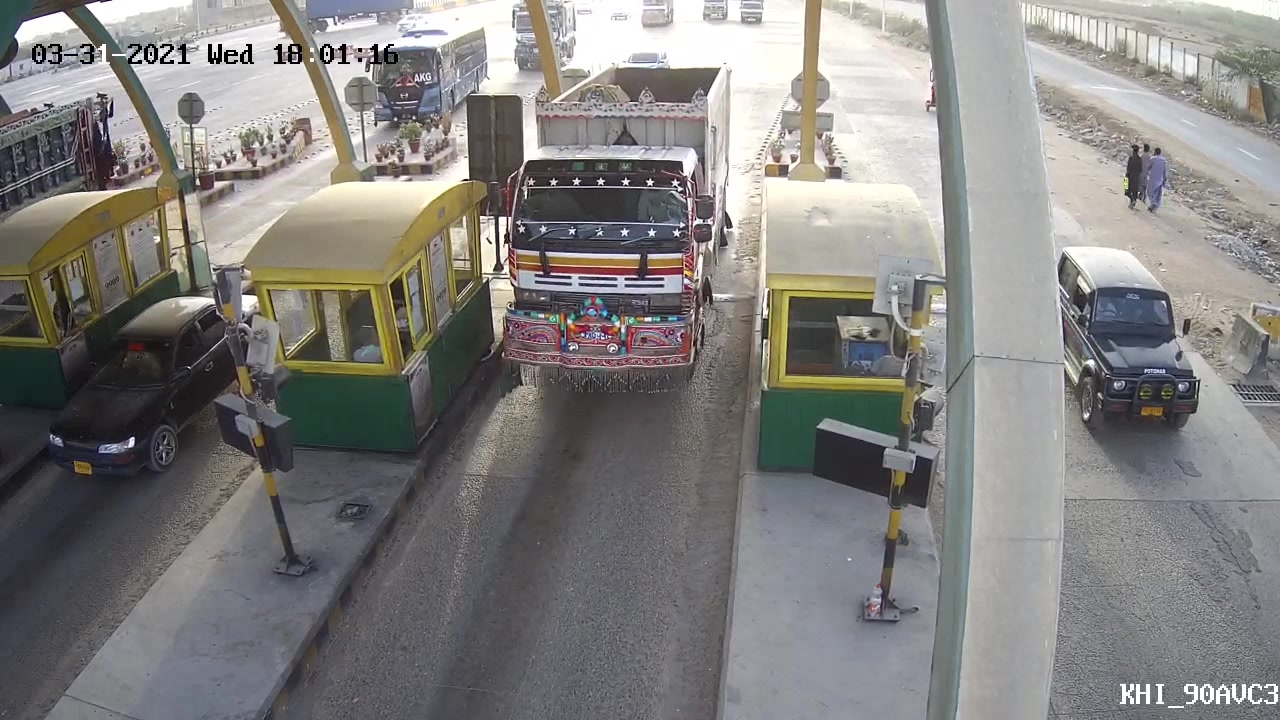F5: (467, 82, 742, 409)
